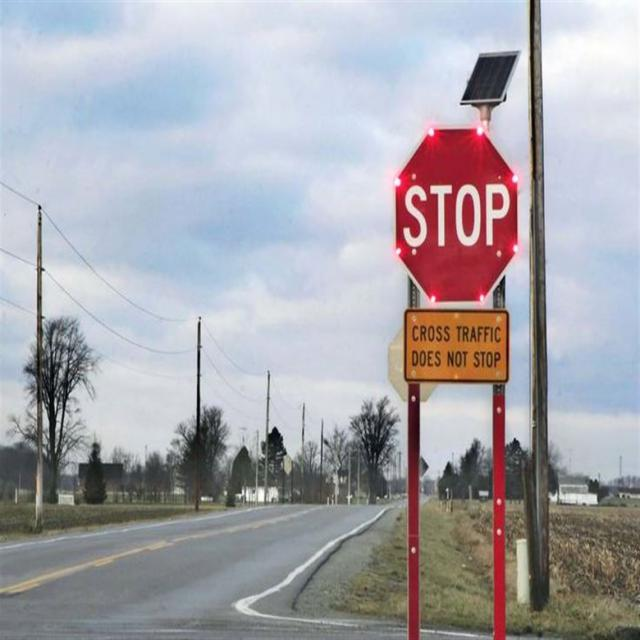stop-sign: (373, 93, 554, 324)
